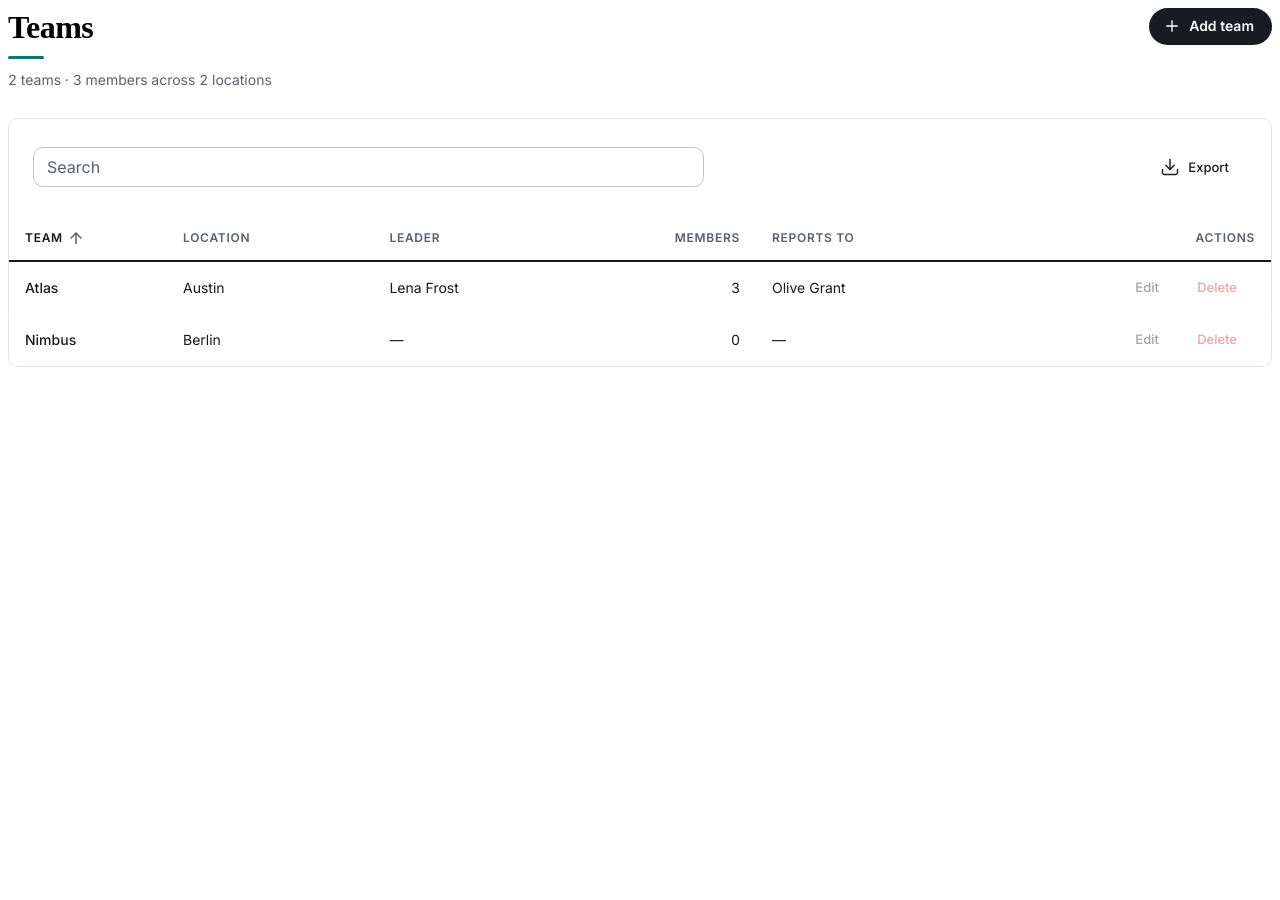
Teams page › shows an error and stays open when the create is rejected
Expected: the link "Atlas" is shown, [25, 279, 58, 296]
Click the button "Add team". click: (1211, 26)
box: [1149, 8, 1272, 44]
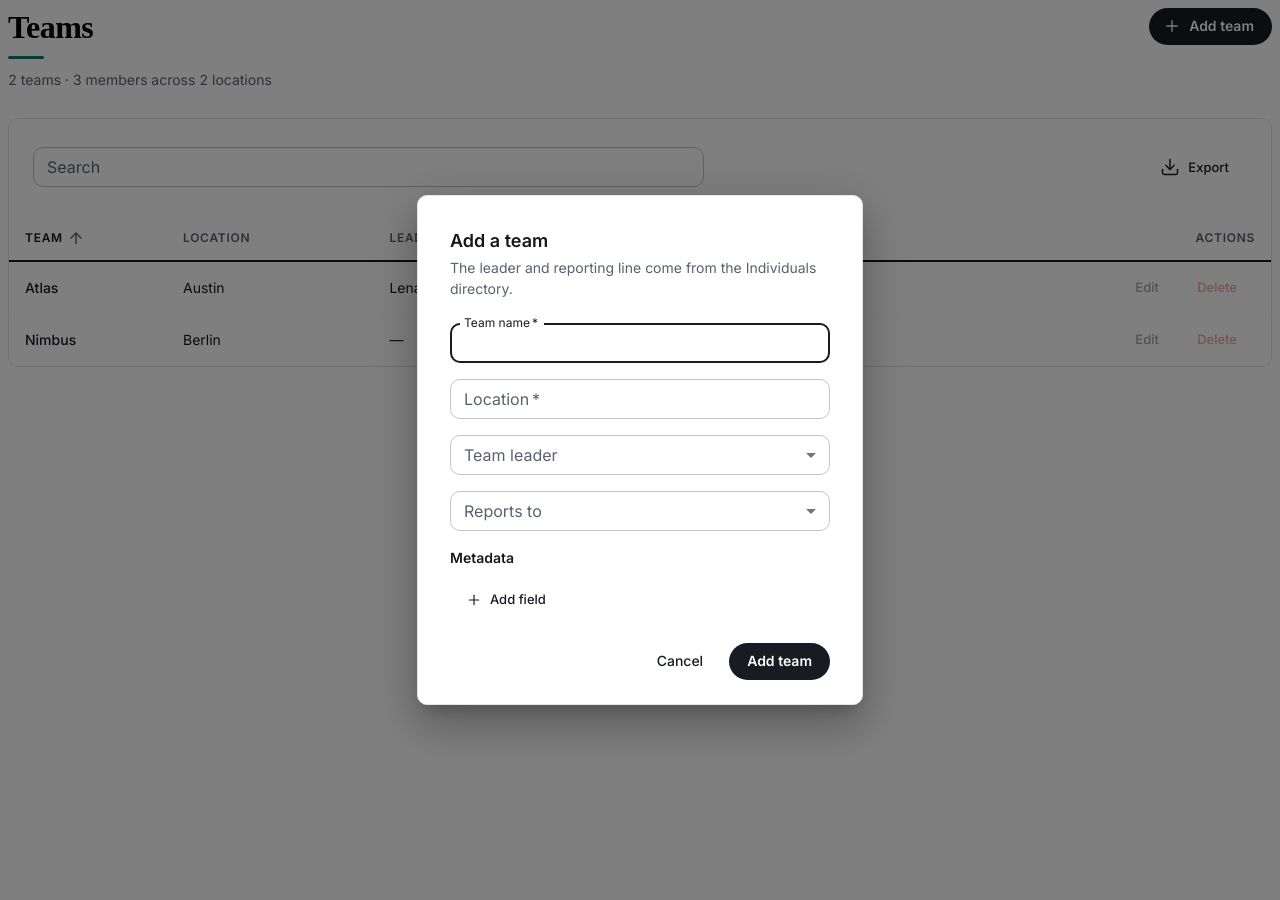
Type "Atlas" into the field labelled "Team name *". click: (640, 344)
box: [450, 324, 830, 364]
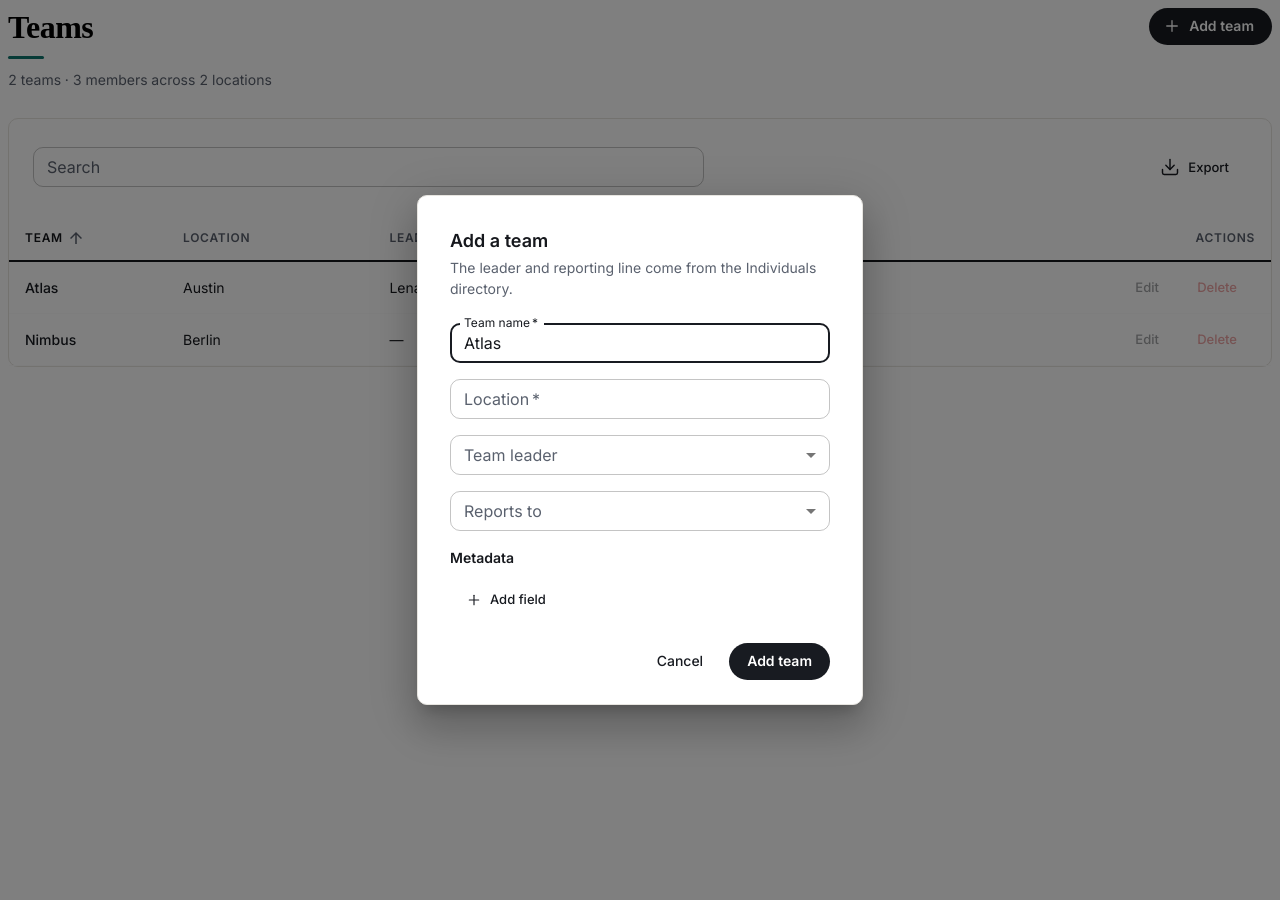
Type "Austin" into the field labelled "Location *". click: (640, 400)
box: [450, 380, 830, 420]
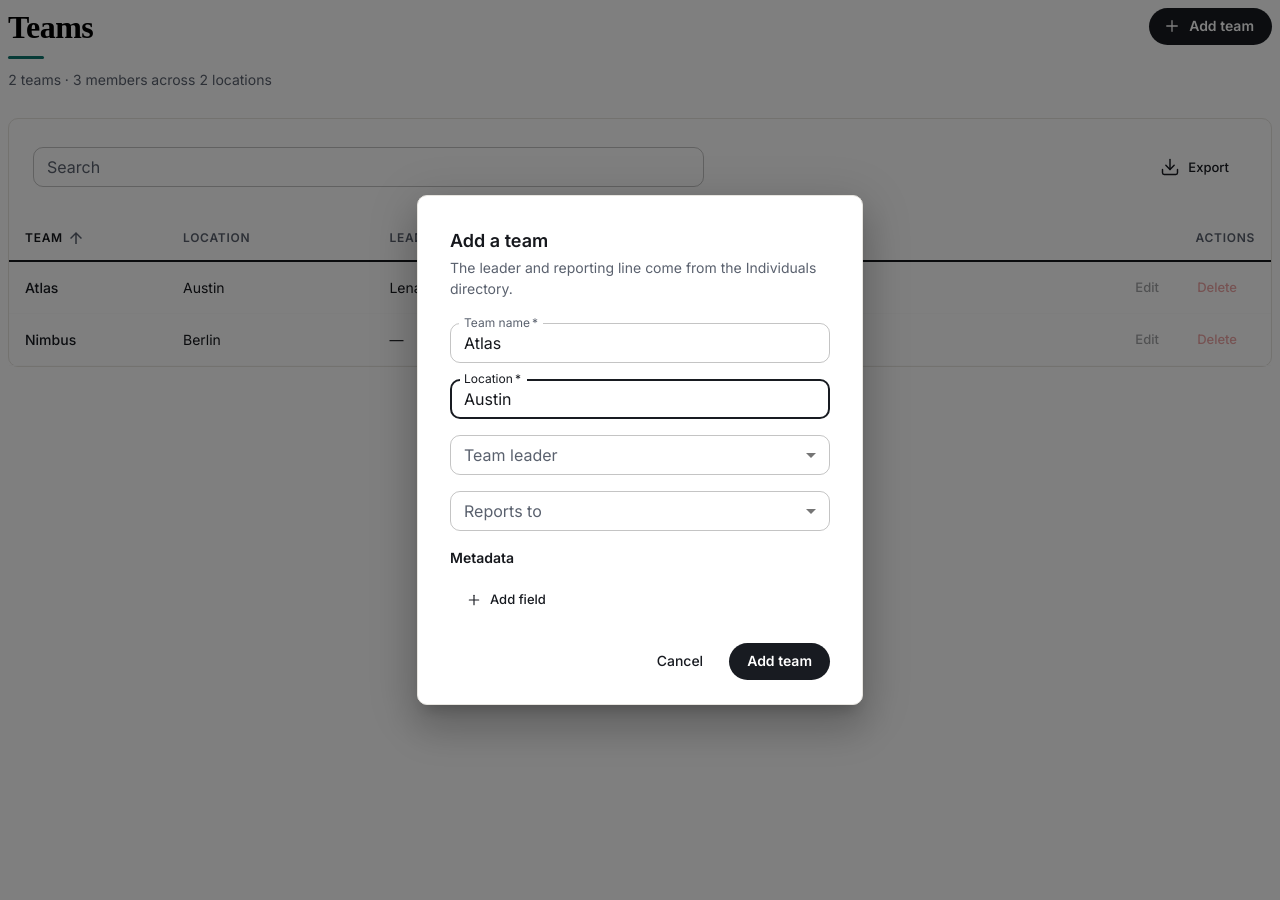
Click the button "Add team". click: (780, 661)
box: [729, 643, 830, 680]
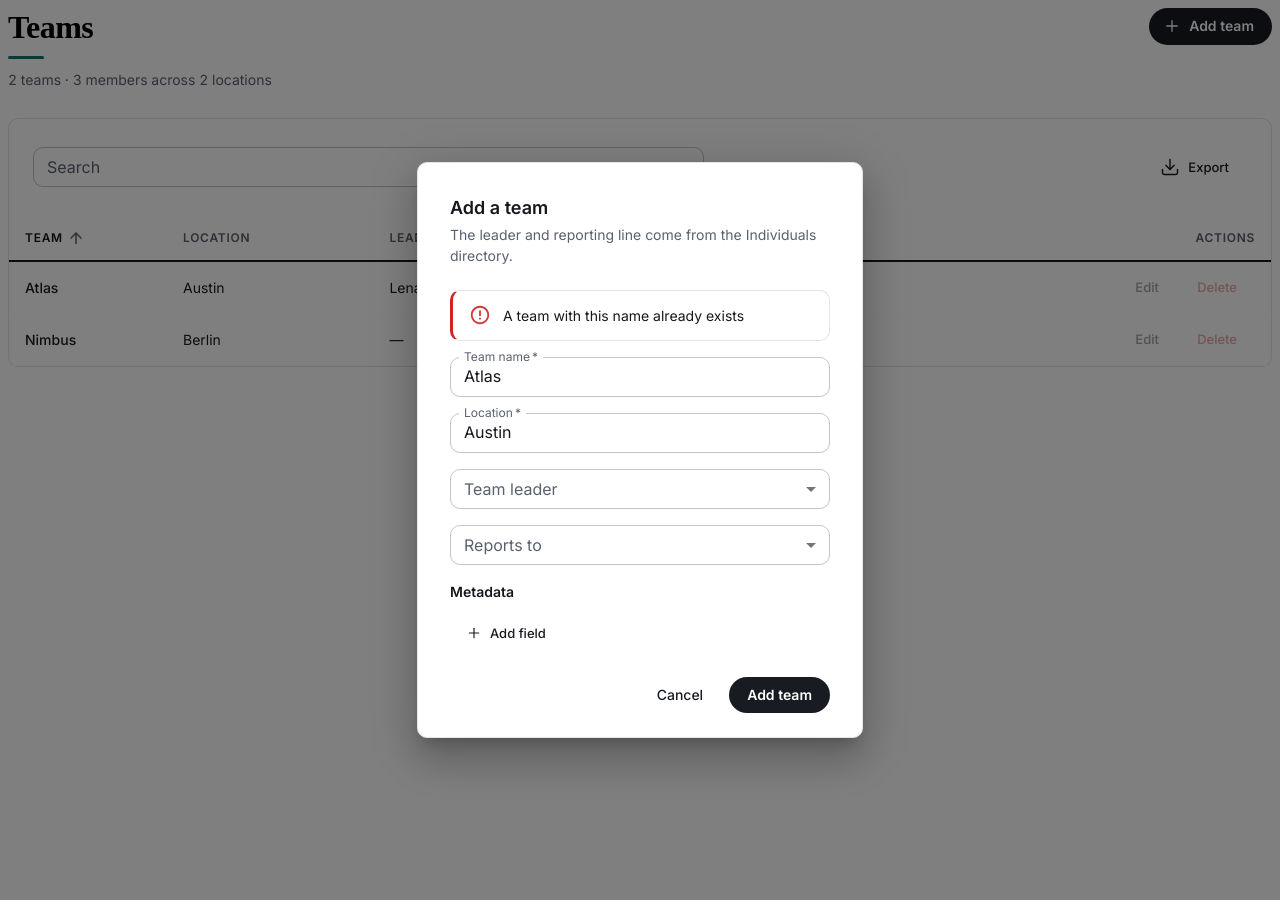
Result: the dialog "Add a team" is shown at [417, 162, 863, 738]
Result: the text "A team with this name already exists" is shown at [503, 307, 744, 324]
